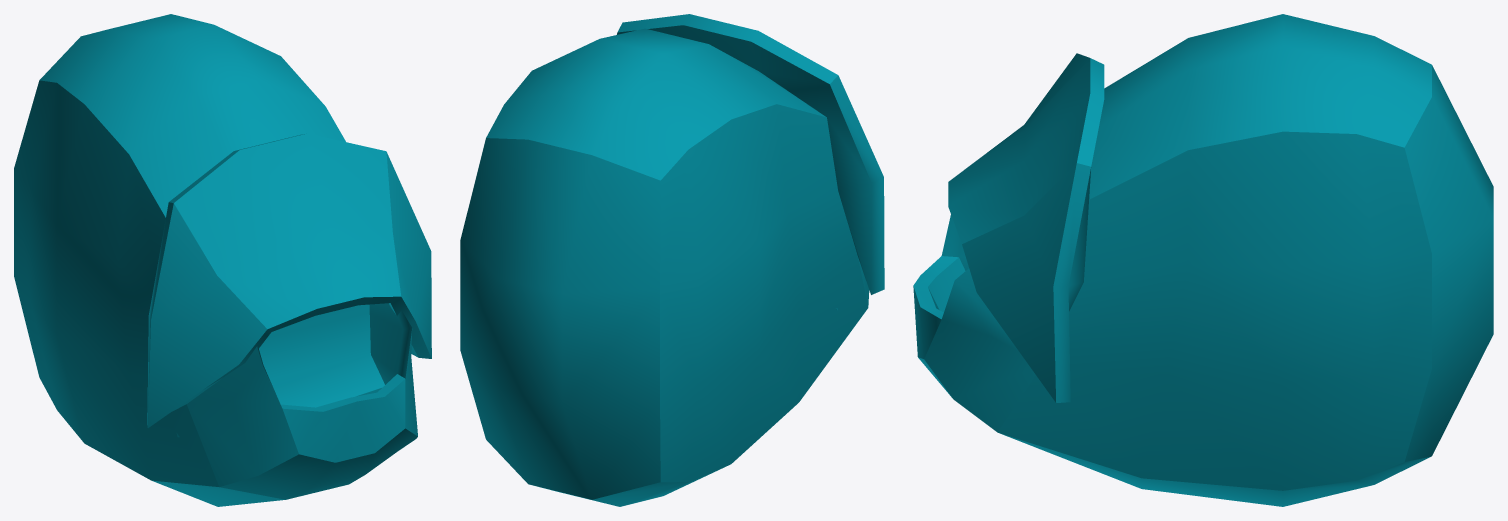
The model's file is NautilusShell.fbx.
3 views of the same model, side by side, from view 1: azimuth 30°, elevation 25°; view 2: azimuth 150°, elevation 25°; view 3: azimuth 270°, elevation 25° (orthographic). The views are drawn at different scales.
Parts seen in each view (by area): view 1: Shell; view 2: Shell; view 3: Shell.
Boxes of the visible parts, x1,y1,x2,y2 form: Shell: [14, 14, 431, 506]; Shell: [460, 14, 884, 506]; Shell: [913, 14, 1493, 506].
Bounding box in the file's own units: 1.34 × 1.97 × 2.25.
